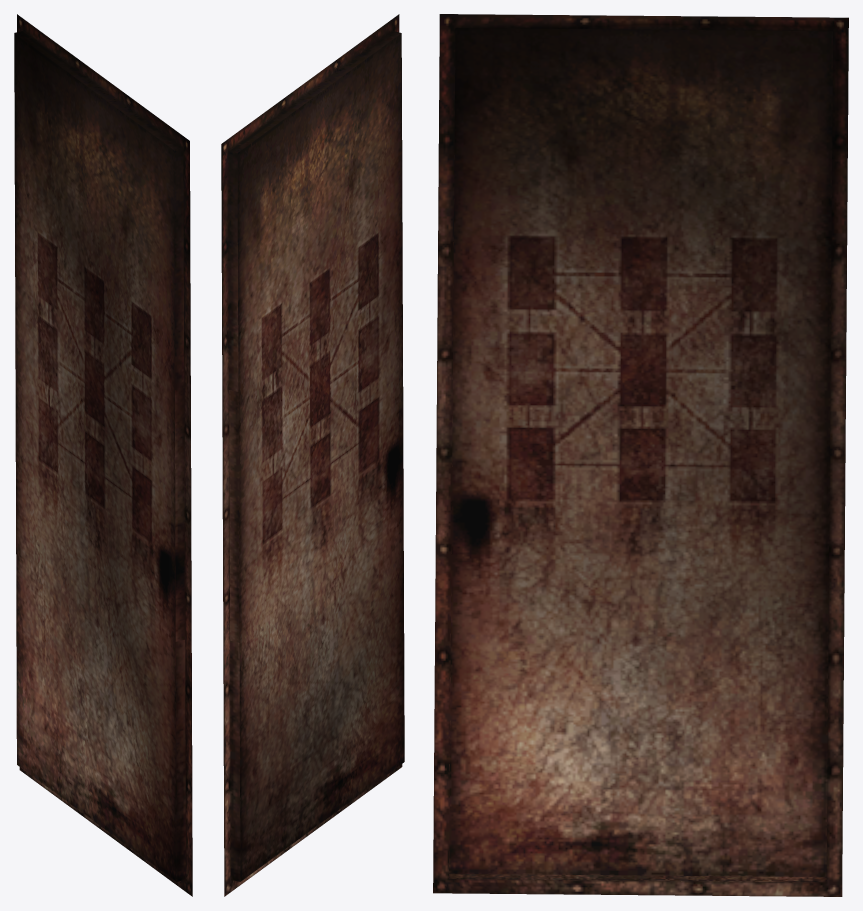
The model's file is Puerta.obj.
3 views of the same model, side by side, from view 1: azimuth 30°, elevation 25°; view 2: azimuth 150°, elevation 25°; view 3: azimuth 270°, elevation 25° (orthographic). The views are drawn at different scales.
Visible parts, largest first — view 1: pasted__polySurface38 pasted__Mesh group20; view 2: pasted__polySurface38 pasted__Mesh group20; view 3: pasted__polySurface38 pasted__Mesh group20.
Part boxes in pixels (<box>): pasted__polySurface38 pasted__Mesh group20: <box>14,14,192,896</box>; pasted__polySurface38 pasted__Mesh group20: <box>221,14,404,896</box>; pasted__polySurface38 pasted__Mesh group20: <box>433,14,848,896</box>.
Bounding box in the file's own units: 0.05 × 3.09 × 1.32.
Materials: 1 (1 with a texture image).
